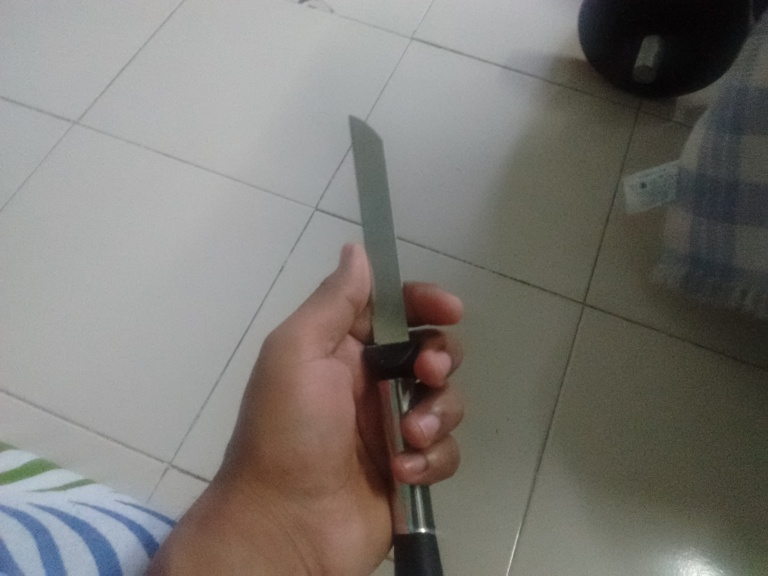knife: (346, 109, 444, 575)
